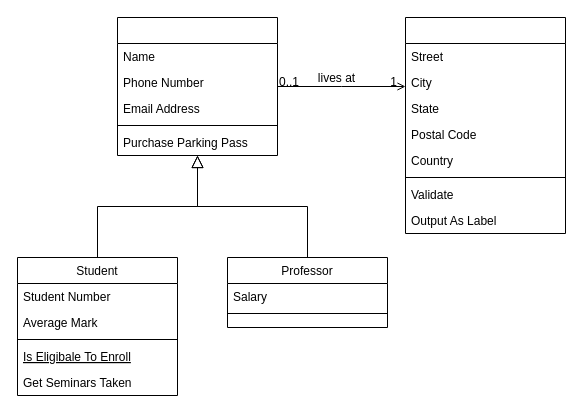
This 583x416 diagram has some shape labels left out. Here are the shapes that lost their labels. From the top down, the box of each, then its label:
(116, 16, 278, 156): Account
(404, 16, 566, 234): Address
